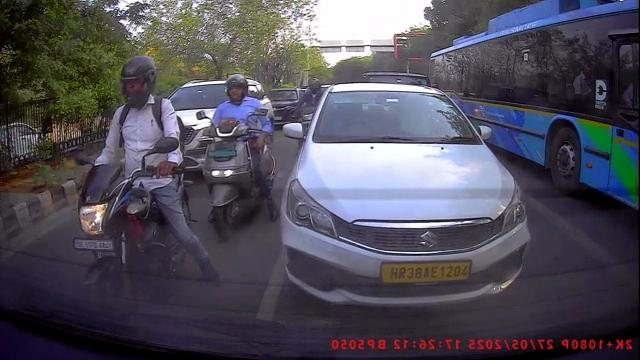motorcycle_with_helmet: (77, 55, 187, 307), (206, 73, 273, 241)
